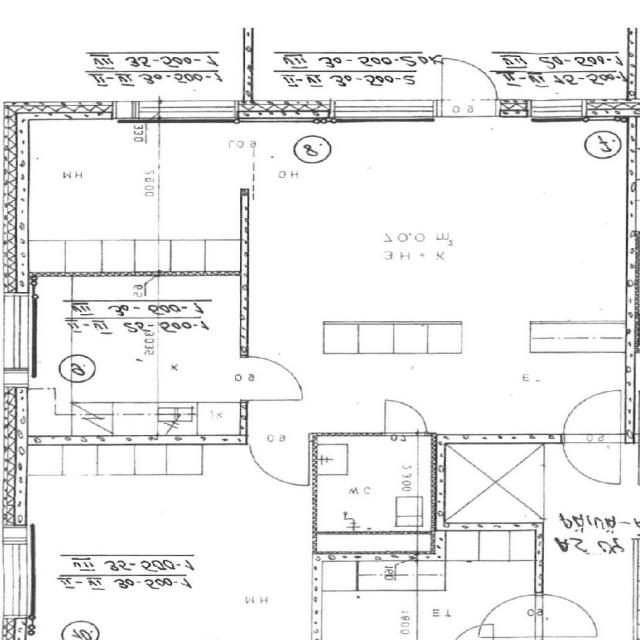door: (442, 58, 497, 116), (250, 432, 310, 485), (563, 434, 621, 487), (563, 391, 621, 443), (240, 356, 307, 400), (386, 401, 427, 436)
